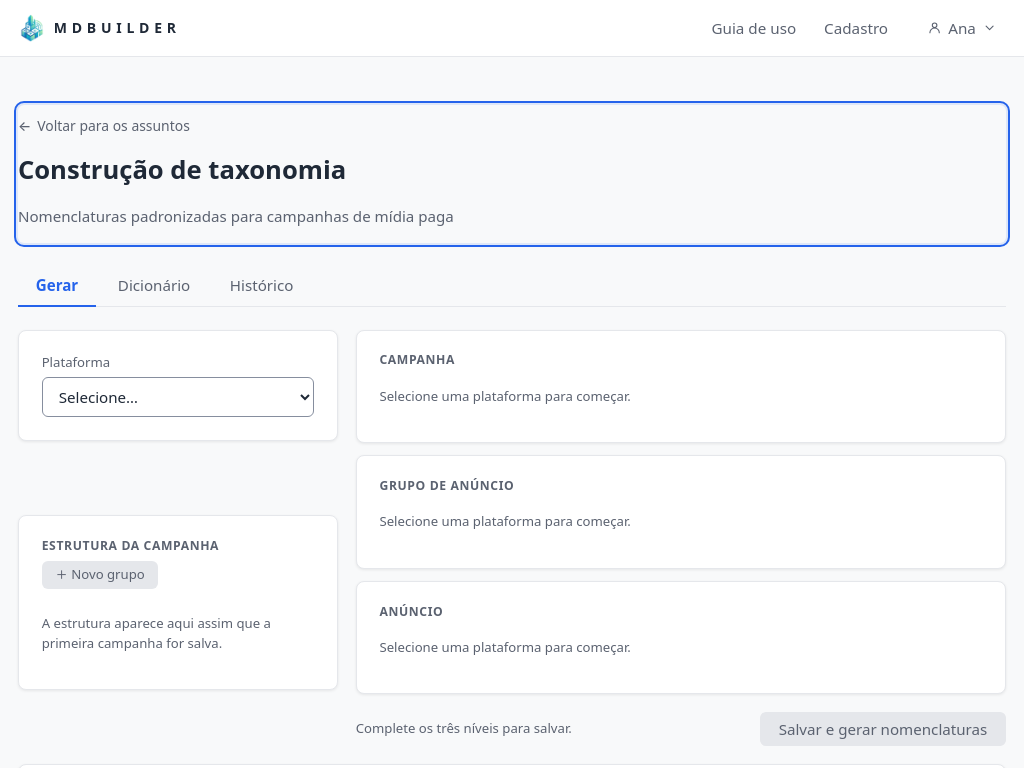
Test: permanência do gerador entre rotas › volta para a aba Gerar depois de passar pelo Dicionário
Select "Meta (METAA)" in the dropdown labelled "Plataforma" at (178, 397), box [42,377,314,417]
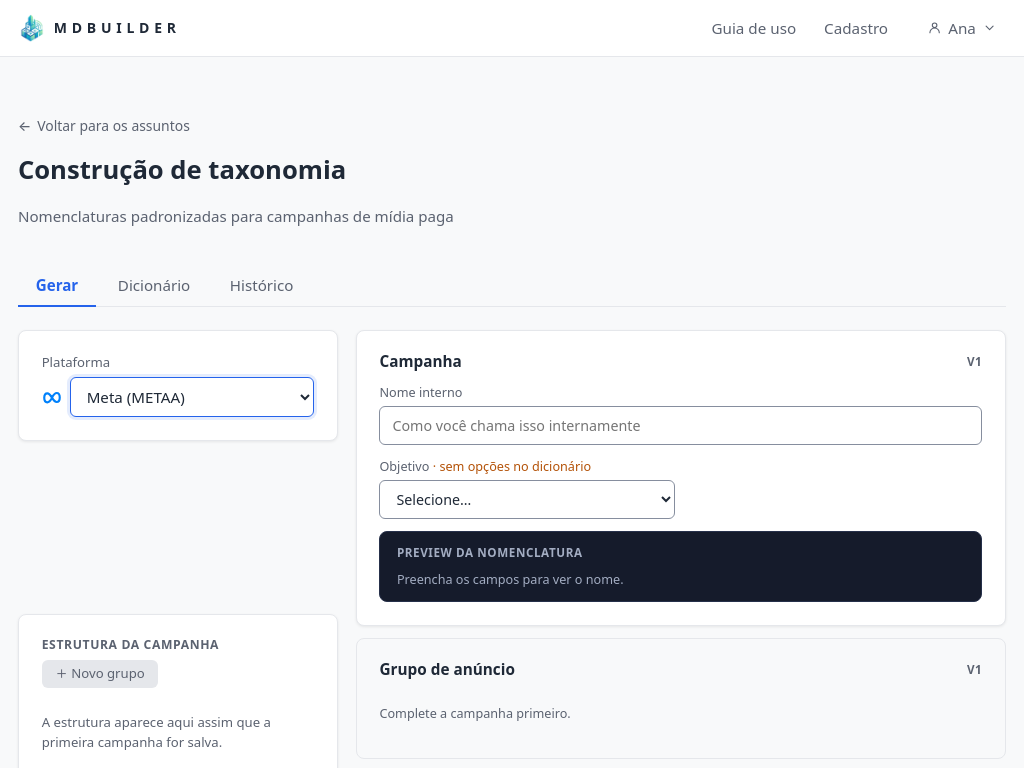
Type "Black Friday 2026" into the field labelled "Nome interno" at (681, 426), box [380,406,982,445]
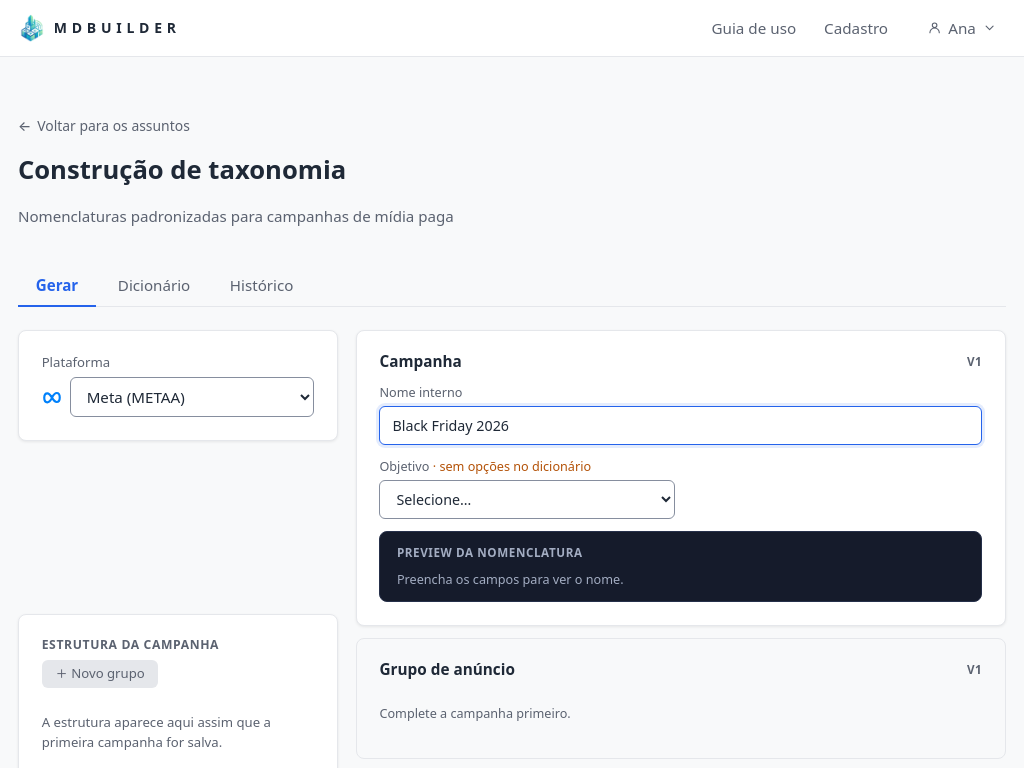
Click the tab "Dicionário" at (154, 286), box [100,266,208,307]
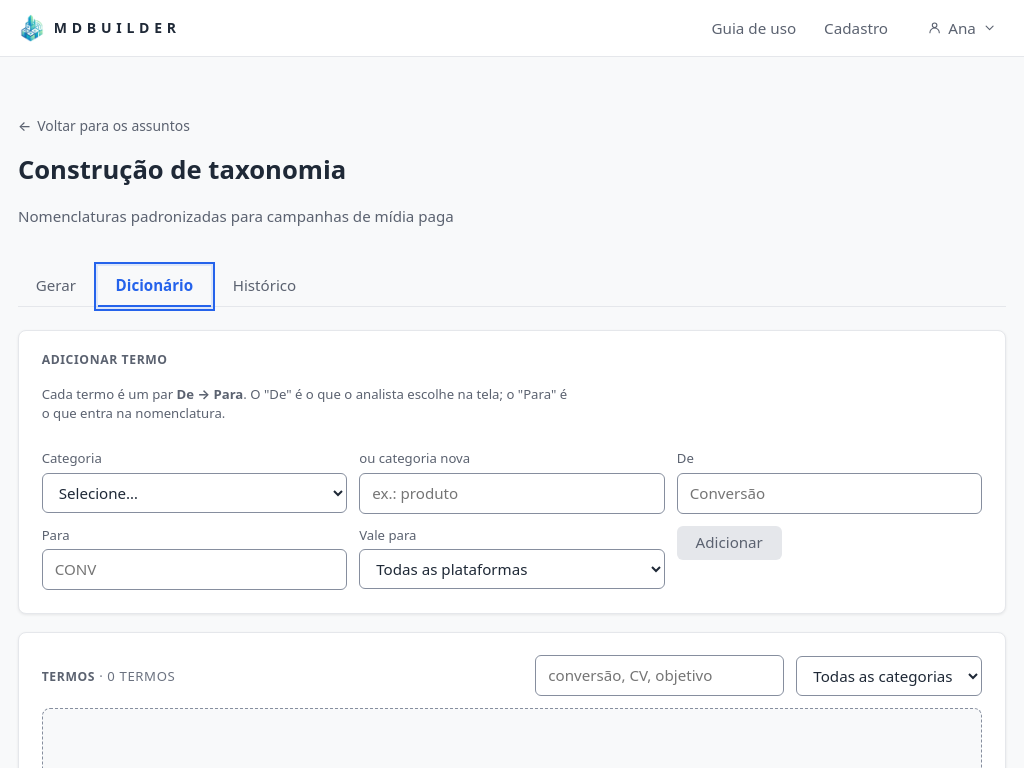
Click the tab "Gerar" at (56, 286), box [18,266,94,307]
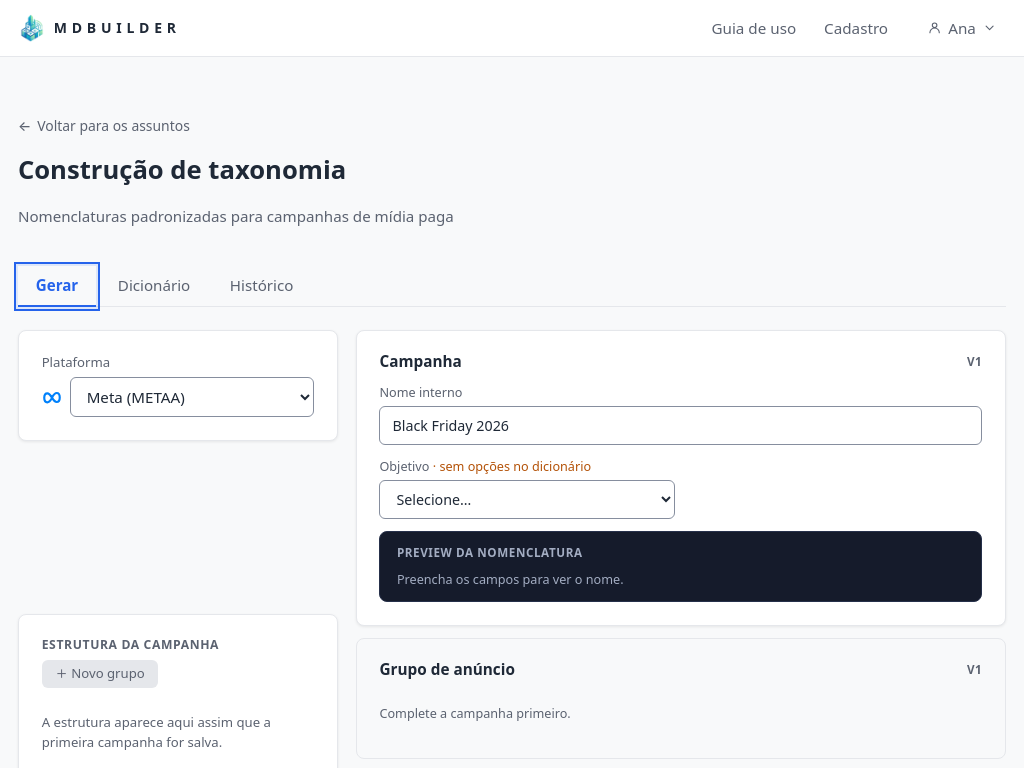
Check: the tab "Gerar" is selected, box [18,266,96,307]
